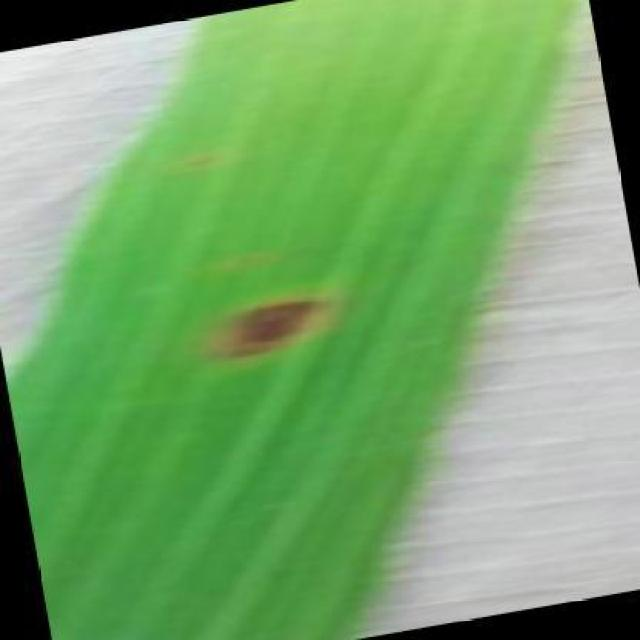Leaf_Blast: (192, 266, 354, 382), (168, 140, 225, 177)
